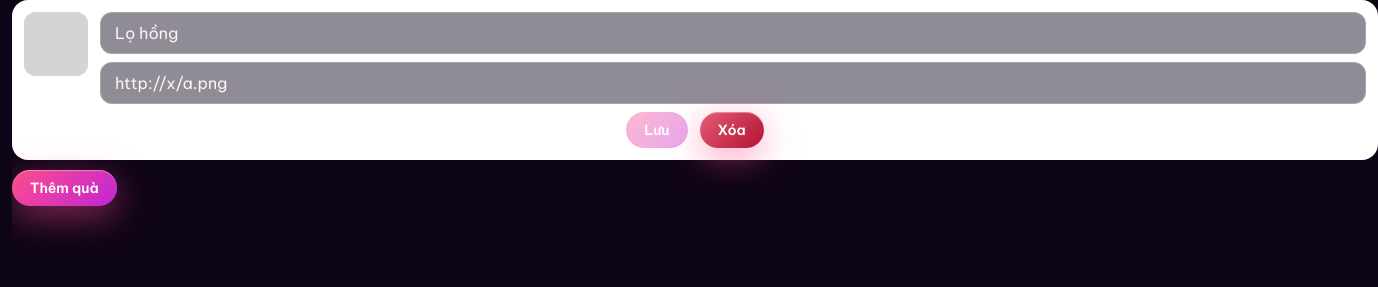
Test case: xóa quà đã có người nhận hiện cảnh báo
The width and height of the screenshot is (1378, 287).
Click the button "Xóa" at (732, 130), box x1=700 y1=112 x2=764 y2=148
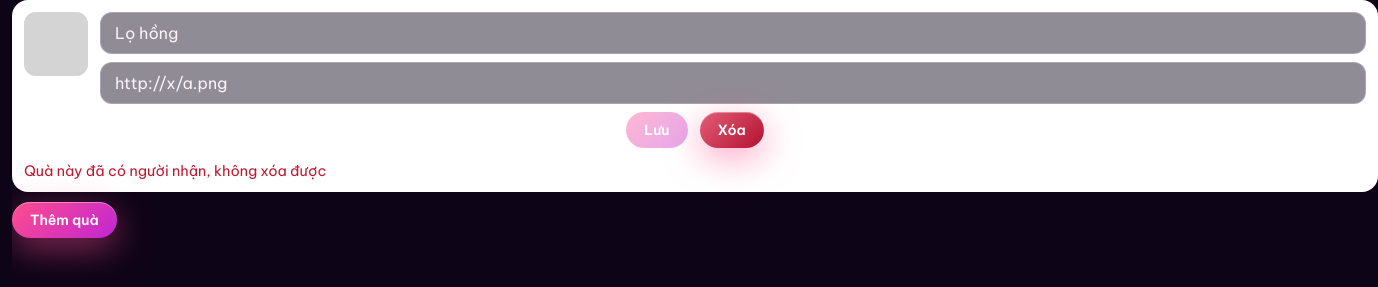
Now the text "Quà này đã có người nhận, không xóa được" is shown, box x1=24 y1=162 x2=326 y2=180
